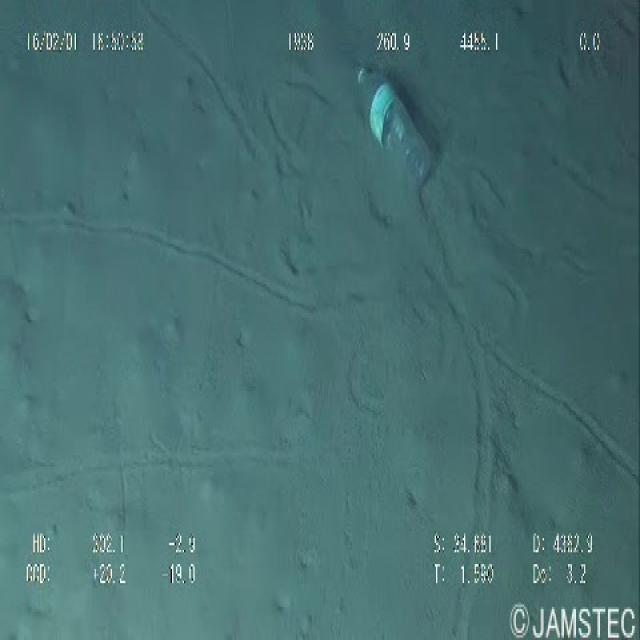plastic: (345, 50, 443, 197)
